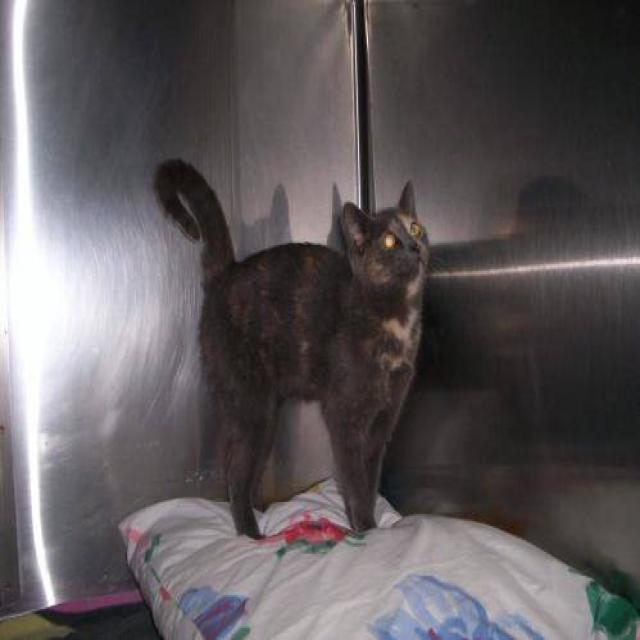cat: (153, 155, 434, 538)
